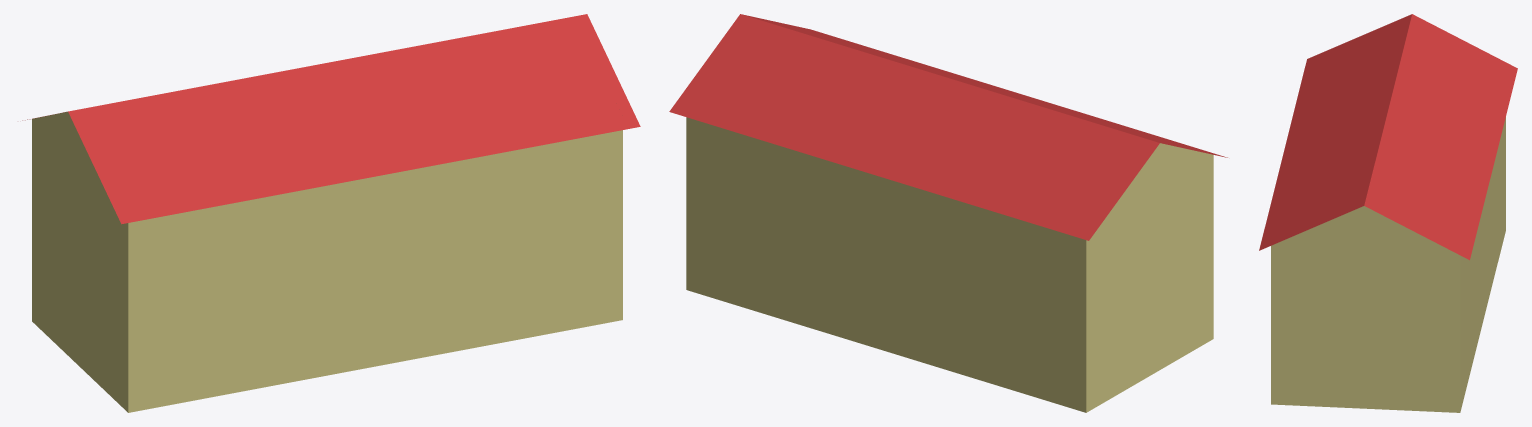
3 views of the same model, side by side, from view 1: azimuth 30°, elevation 25°; view 2: azimuth 150°, elevation 25°; view 3: azimuth 270°, elevation 25° (orthographic). The views are drawn at different scales.
Size of the model in its own units: 22.03 by 11.97 by 10.58.
